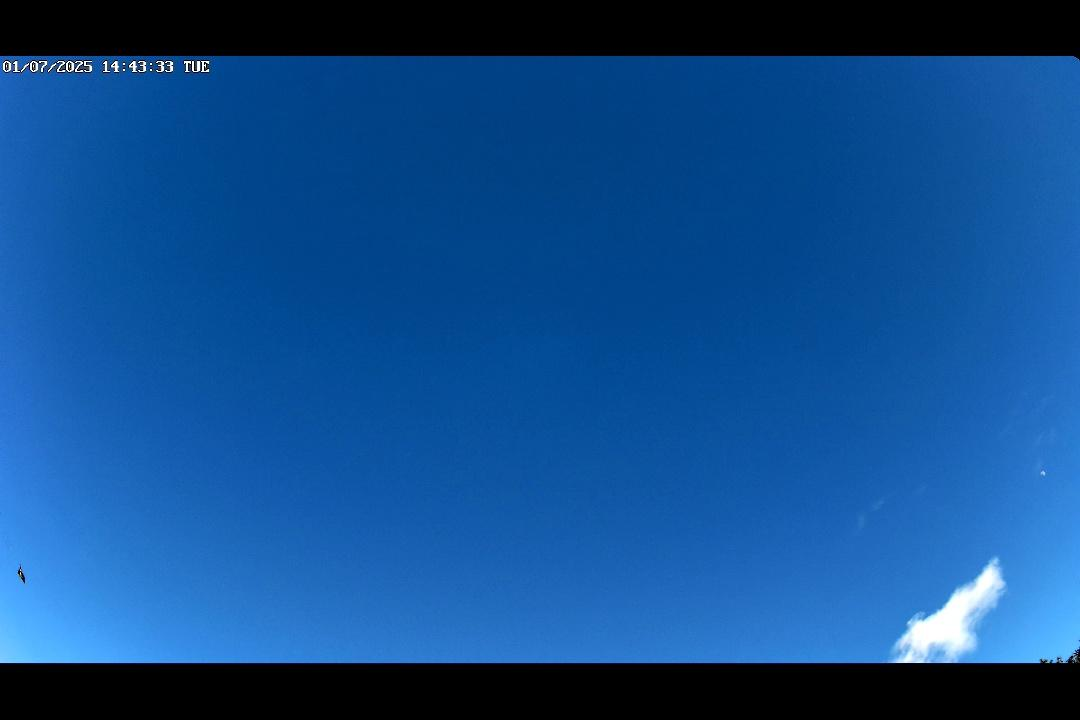WildLife: (11, 555, 35, 596)
